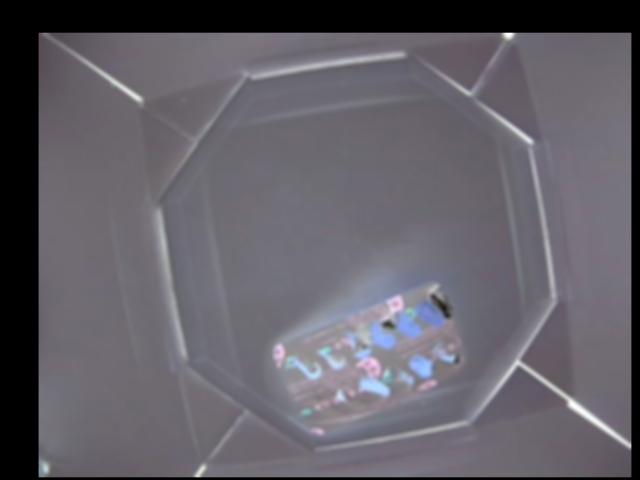Medicine: (264, 280, 462, 434)
